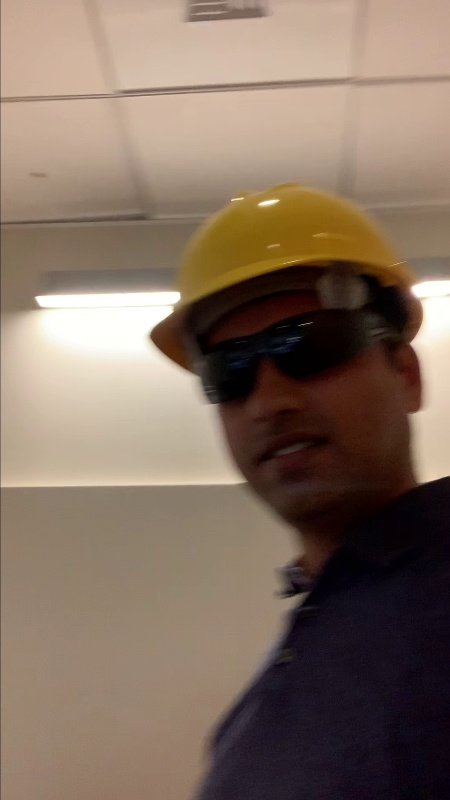glasses: (178, 318, 399, 375)
helmet: (141, 181, 423, 294)
